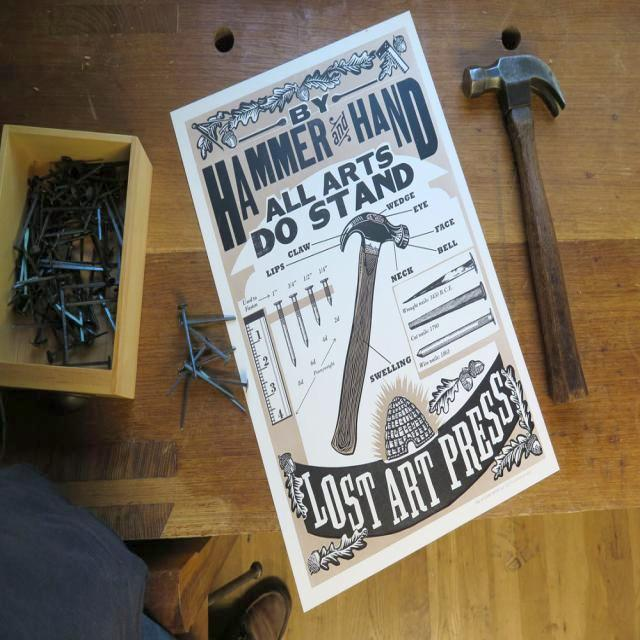hammer: (453, 51, 598, 416)
